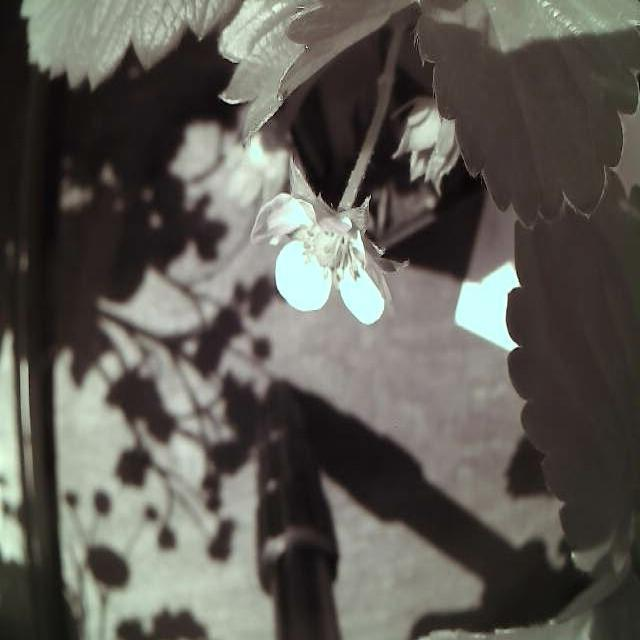flower: (245, 167, 404, 330)
